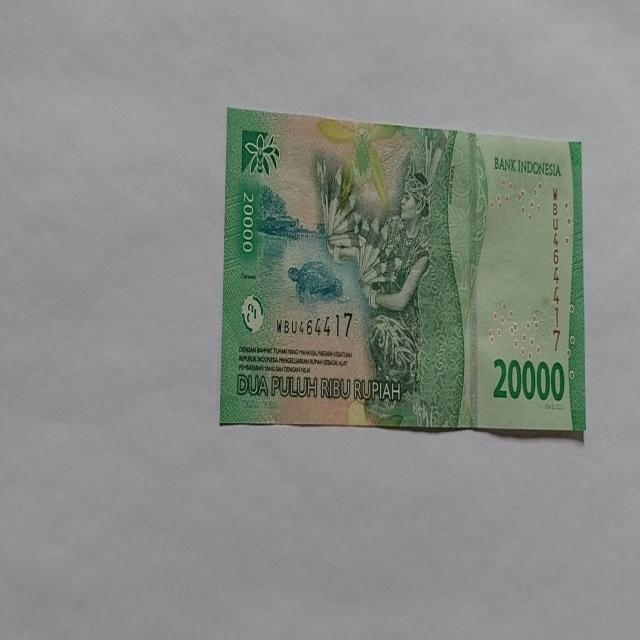dua puluh ribu rupiah: (220, 108, 586, 436)
